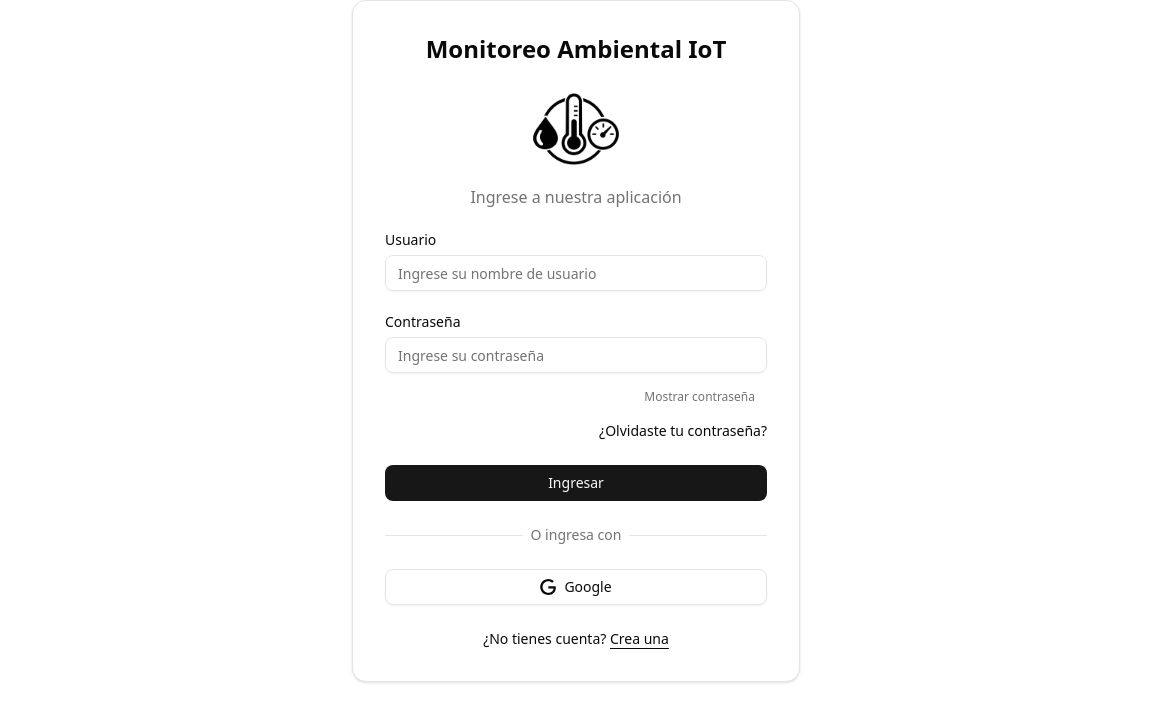
LoginPage › shows an honest verification failure for malformed without redirecting
Click the button "Google".
click(576, 587)  # box [385,569,767,605]
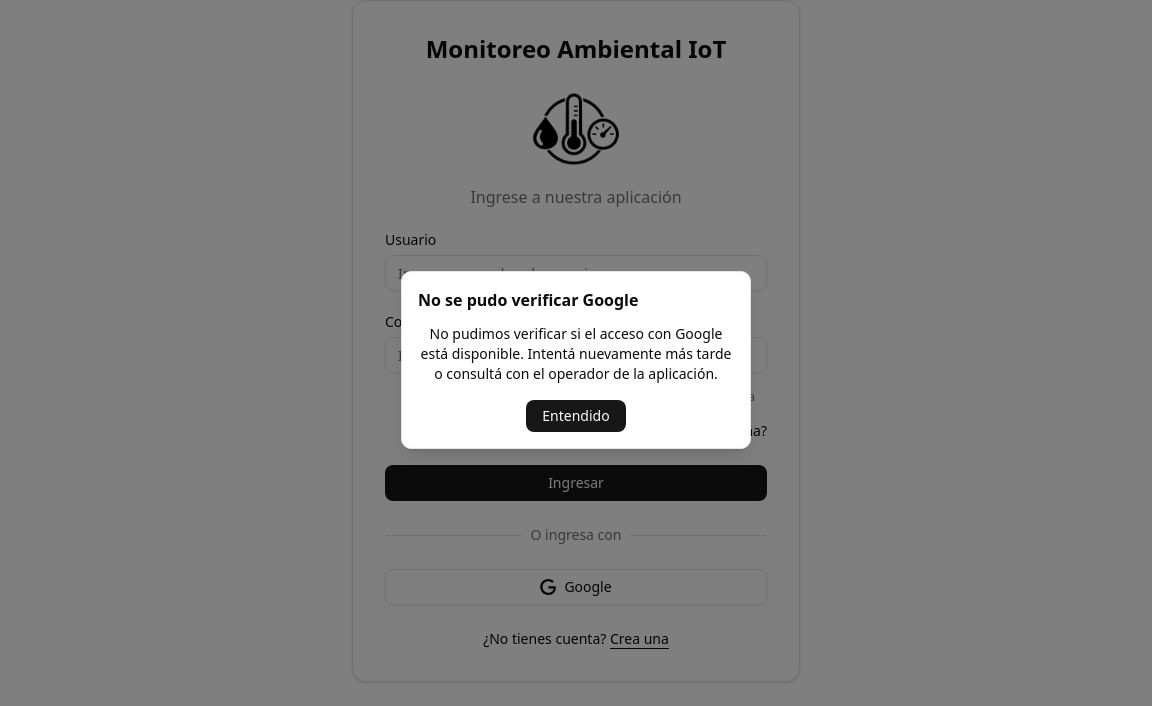
Check: the heading "No se pudo verificar Google" is shown, box [418,289,638,311]
Check: the text "No pudimos verificar si el acceso con Google está disponible" is shown, box [421,324,731,383]
